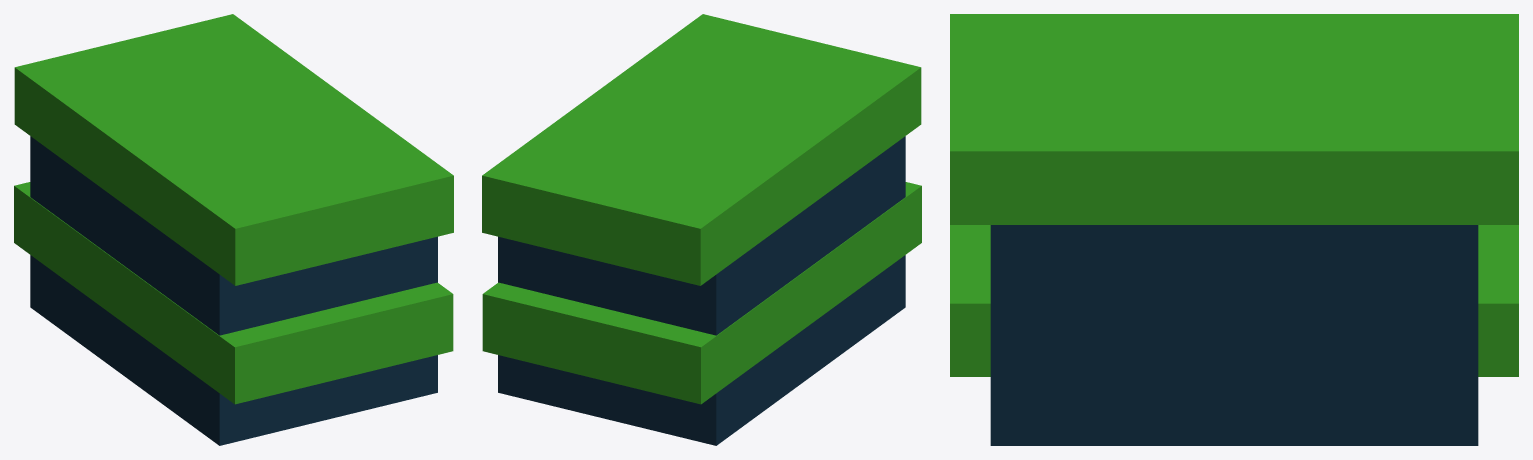
The model's file is wall1.fbx.
3 views of the same model, side by side, from view 1: azimuth 30°, elevation 25°; view 2: azimuth 150°, elevation 25°; view 3: azimuth 270°, elevation 25° (orthographic). The views are drawn at different scales.
Visible parts, largest first — view 1: Cube (3), Cube, Cube (2); view 2: Cube (3), Cube, Cube (2); view 3: Cube (3), Cube, Cube (2).
Part boxes in pixels (x1,y1,x2,y2): Cube (3): [14, 14, 453, 285]; Cube: [30, 136, 437, 445]; Cube (2): [14, 182, 453, 404]; Cube (3): [482, 14, 921, 285]; Cube: [498, 136, 905, 445]; Cube (2): [482, 182, 921, 404]; Cube (3): [950, 14, 1518, 224]; Cube: [990, 225, 1478, 445]; Cube (2): [950, 225, 1518, 376].
Bounding box in the file's own units: 200 × 200 × 350.
